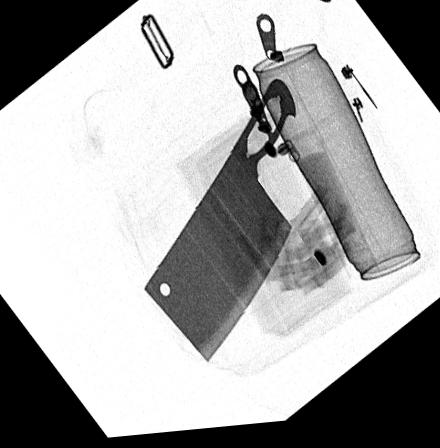Knife: (142, 83, 295, 367)
